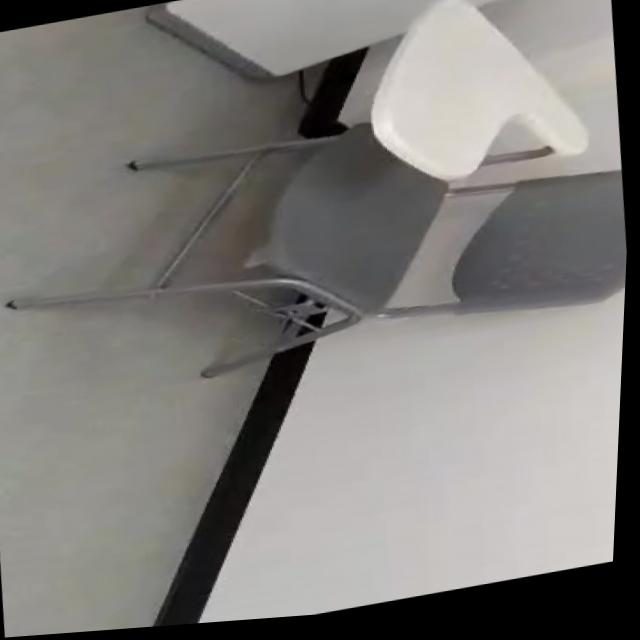chair: (0, 0, 640, 438)
